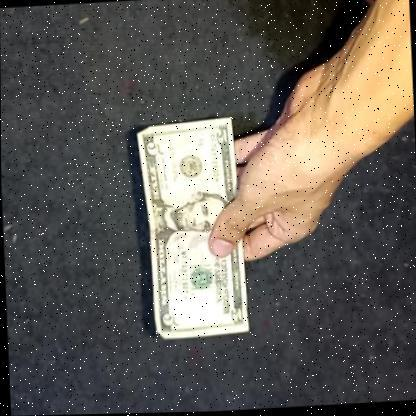five-front: (138, 117, 252, 344)
